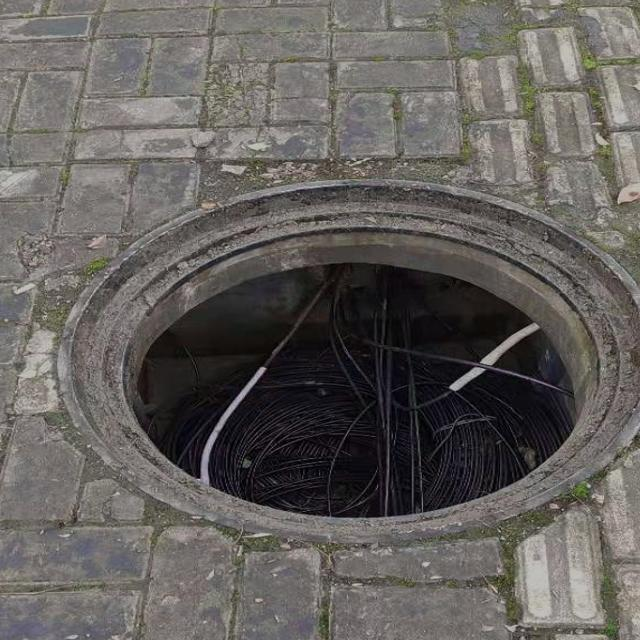lose: (56, 180, 640, 550)
